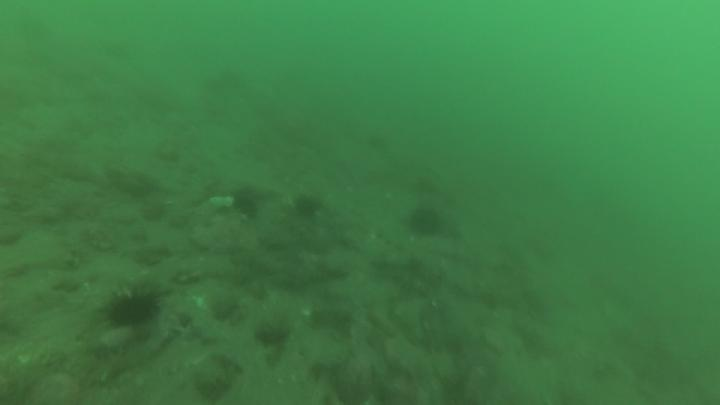echinus: (106, 281, 163, 330), (409, 204, 446, 239), (230, 192, 263, 224), (293, 191, 322, 223)
